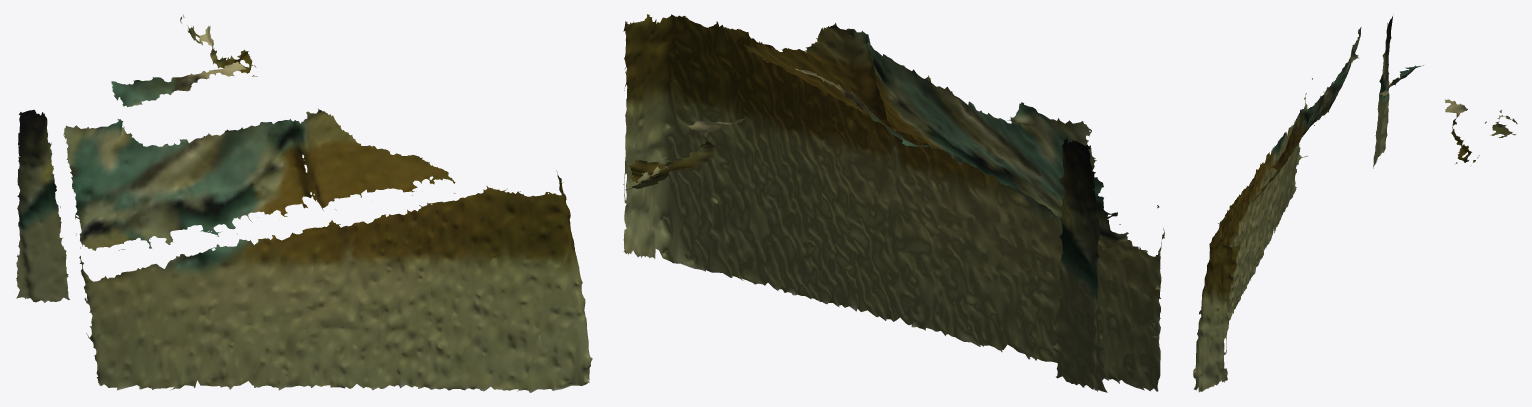
File: color_model_f001_20260204_220905.obj
3 renders of one model, left to right at view 1: azimuth 30°, elevation 25°; view 2: azimuth 150°, elevation 25°; view 3: azimuth 270°, elevation 25°, orthographic. The views are drawn at different scales.
Size of the model in its own units: 1.86 by 1.1 by 1.5.
